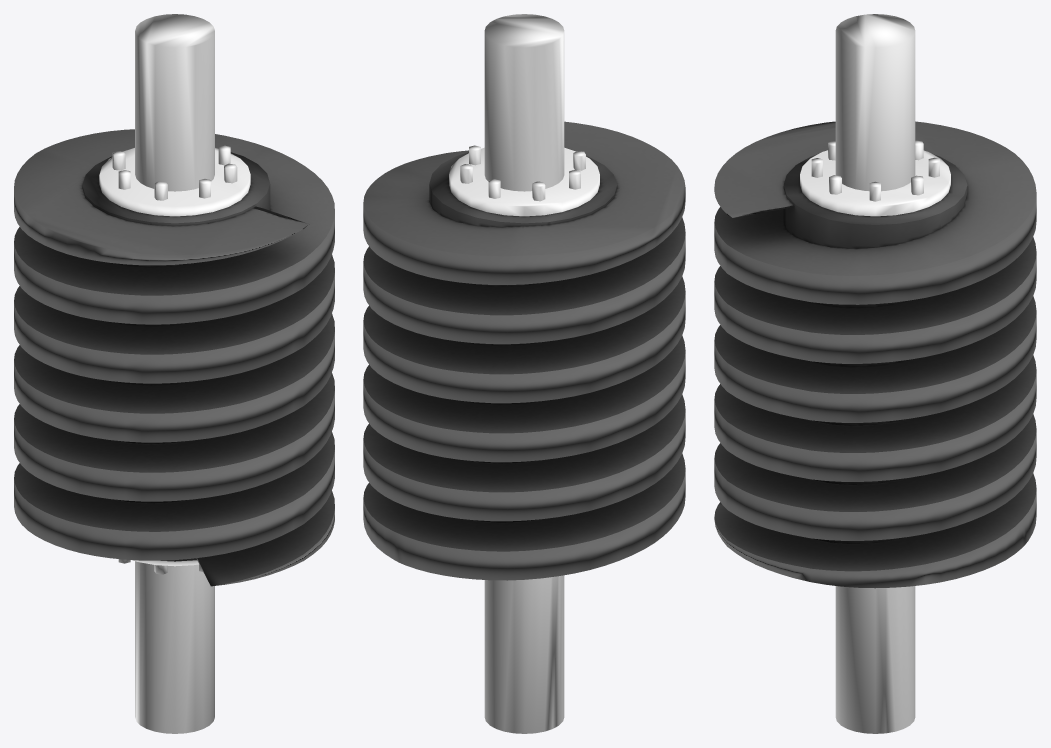
File: toppletower_schnecke.fbx
3 renders of one model, left to right at view 1: azimuth 30°, elevation 25°; view 2: azimuth 150°, elevation 25°; view 3: azimuth 270°, elevation 25°, orthographic.
Parts seen in each view (by area): view 1: Mesh; view 2: Mesh; view 3: Mesh.
Part boxes in pixels (x1,y1,x2,y2): Mesh: (14, 14, 334, 733); Mesh: (363, 14, 685, 733); Mesh: (714, 14, 1036, 733).
Bounding box in the file's own units: 23.01 × 54.1 × 23.01.
